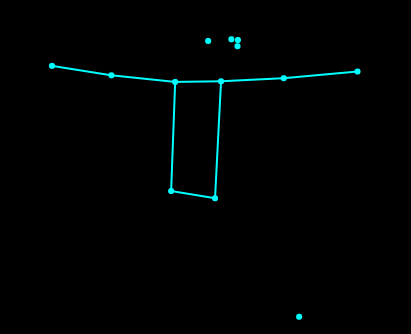warrior_2: (45, 32, 363, 321)
